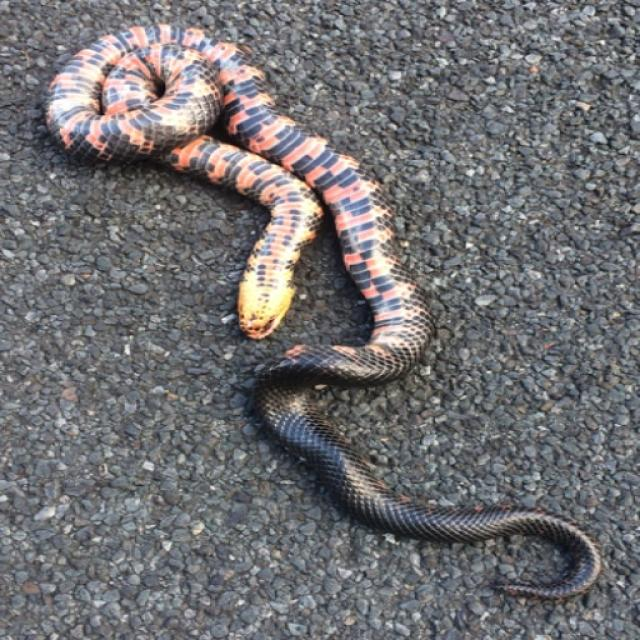snake: (37, 18, 618, 613)
